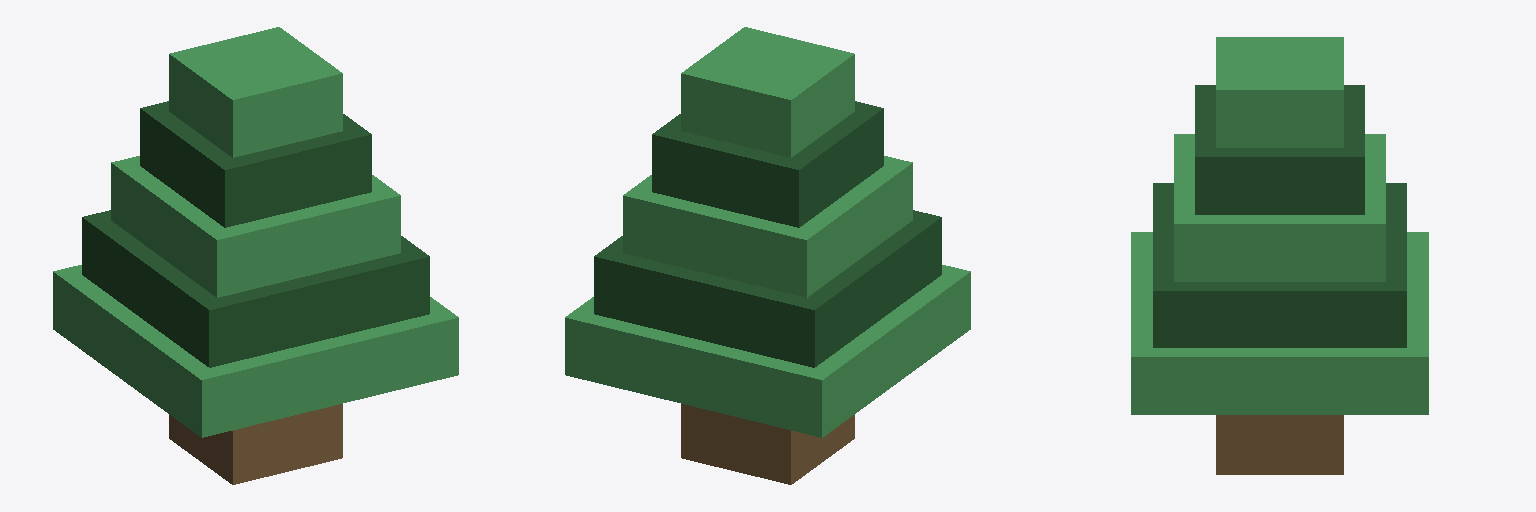
The picture shows the model from 3 angles: view 1: azimuth 30°, elevation 25°; view 2: azimuth 150°, elevation 25°; view 3: azimuth 270°, elevation 25°; orthographic projection.
Bounding box in the file's own units: 28 × 40 × 28.
1 materials, 1 textured.